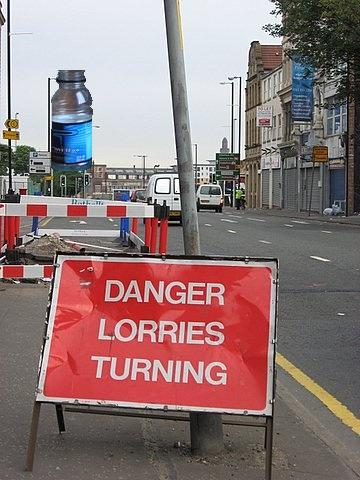tampered: (52, 71, 93, 171)
